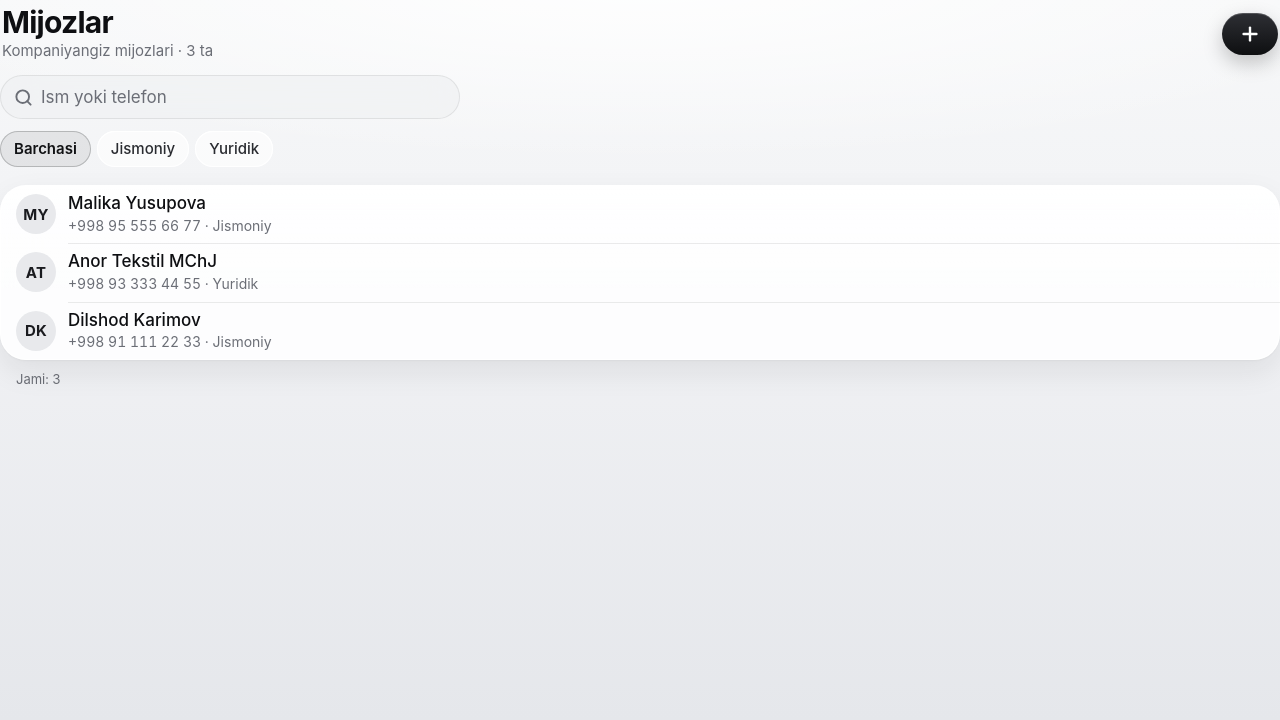
the round + adds a customer
Click the button named "Mijoz qo'shish".
click(1250, 34)  # box 1222,13 -> 1278,55
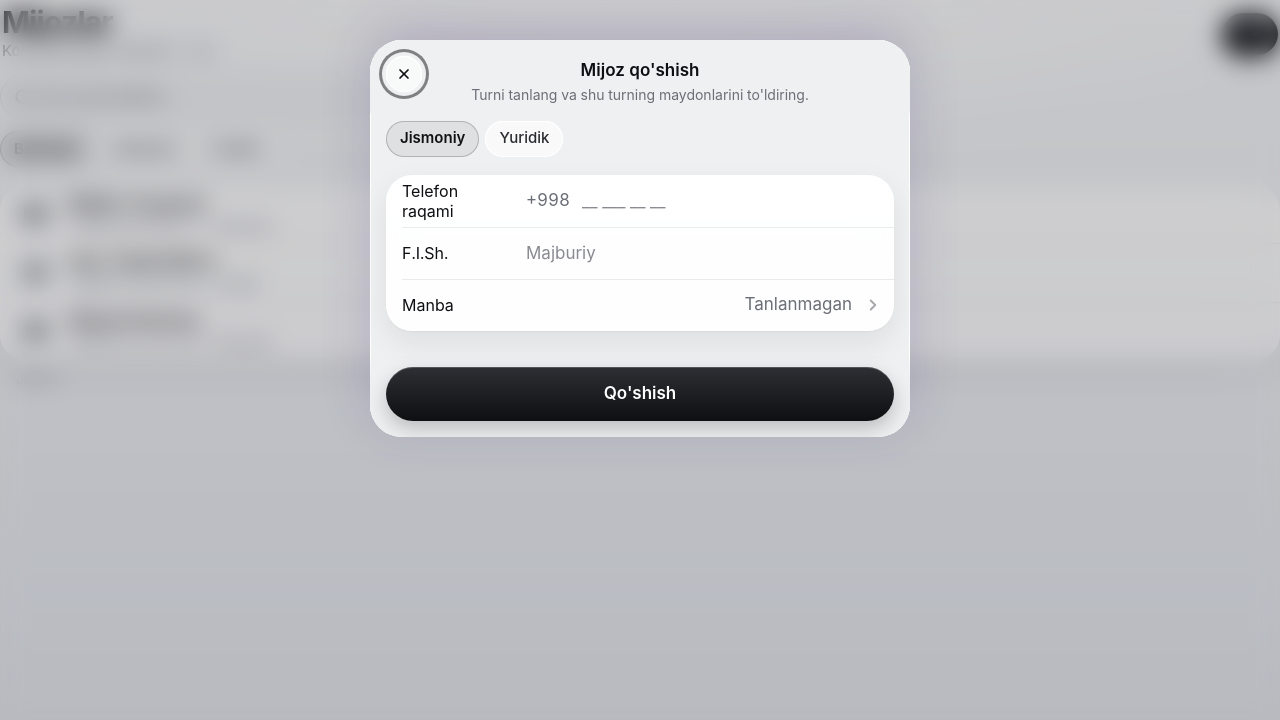
Expected: the dialog "Mijoz qo'shish" is shown, 370,40 -> 910,436
